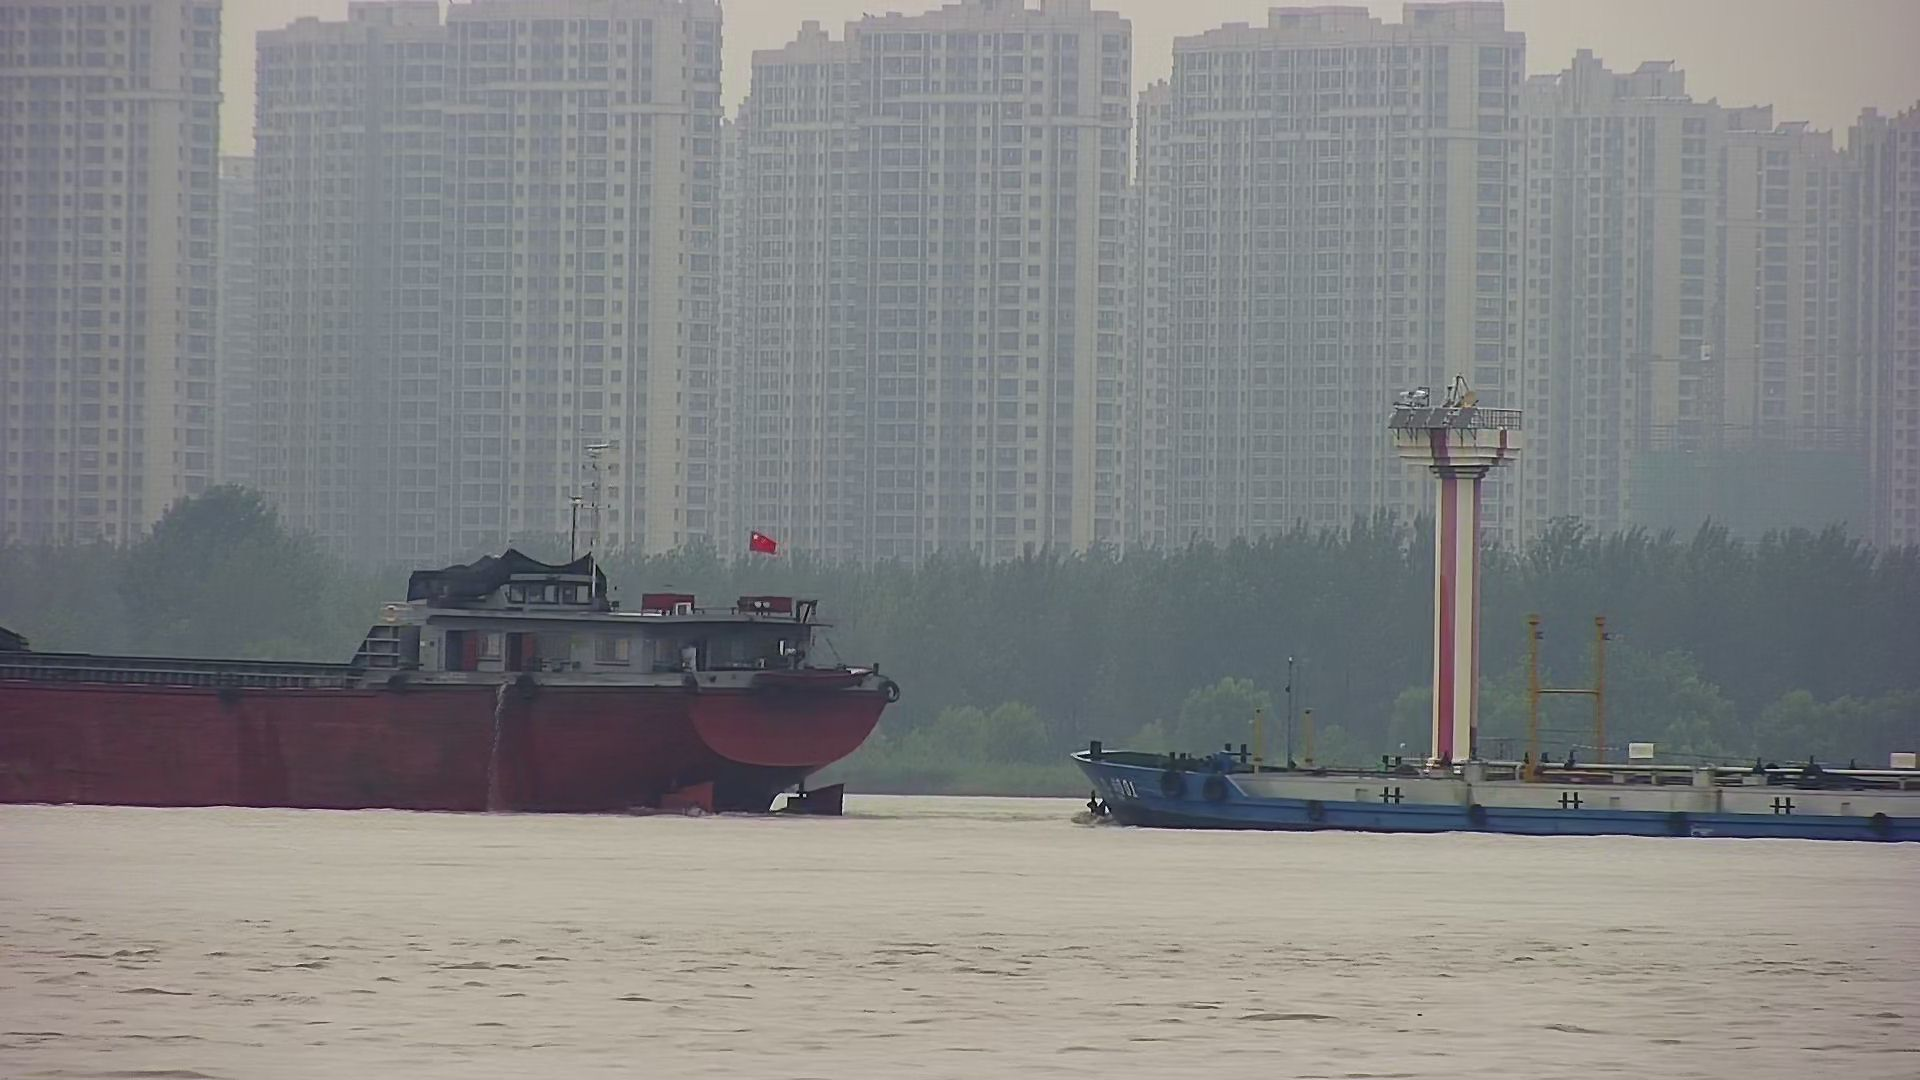platform: (1379, 368, 1530, 853)
ship: (1, 464, 903, 824), (1058, 613, 1920, 851)
